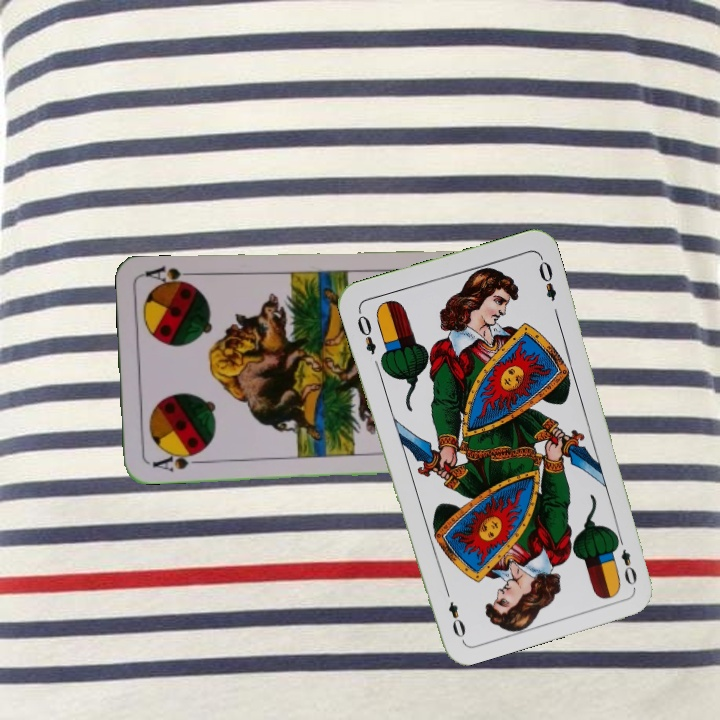EO: (611, 531, 640, 588), (353, 306, 379, 357)
SA: (145, 447, 204, 474)
